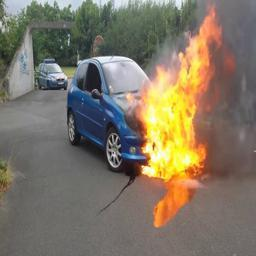fire: (139, 1, 237, 179)
